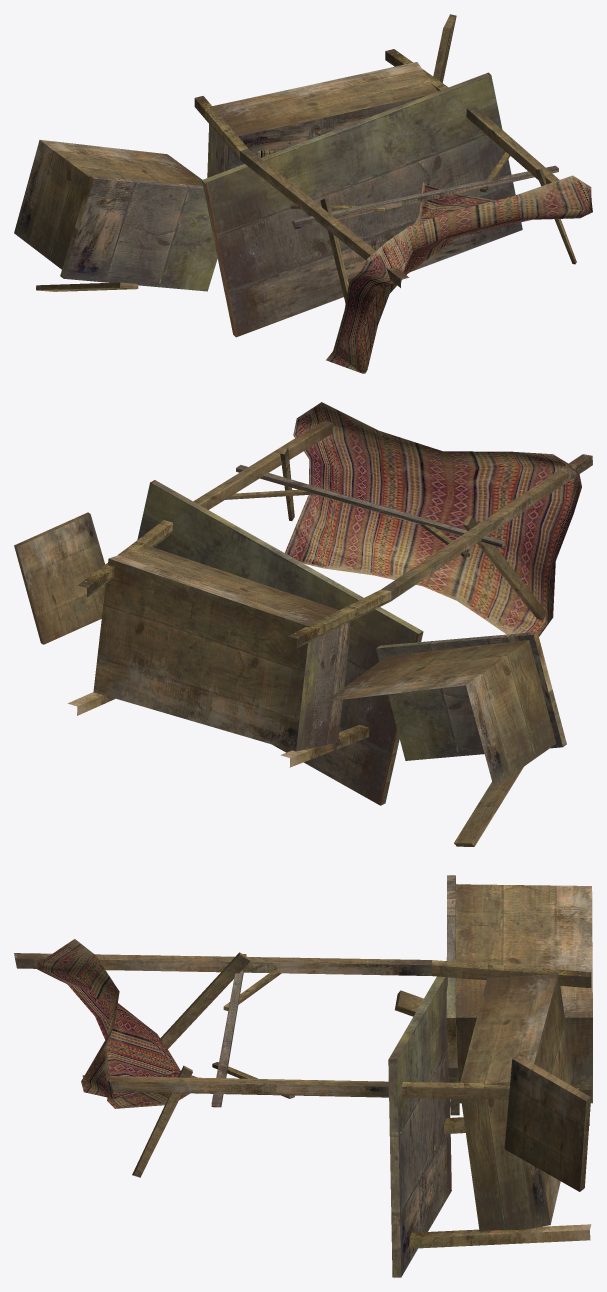
The model's file is prop_market_stands8.glb.
3 renders of one model, top to bottom at view 1: azimuth 30°, elevation 25°; view 2: azimuth 150°, elevation 25°; view 3: azimuth 270°, elevation 25°, orthographic. The views are drawn at different scales.
Size of the model in its own units: 117 by 56.89 by 108.
1 material, 1 textured.
